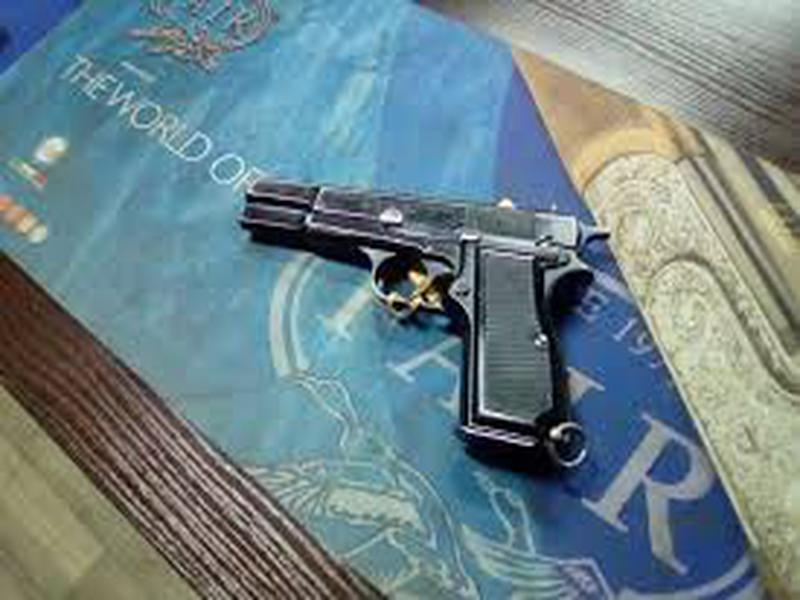gun: (242, 175, 613, 472)
